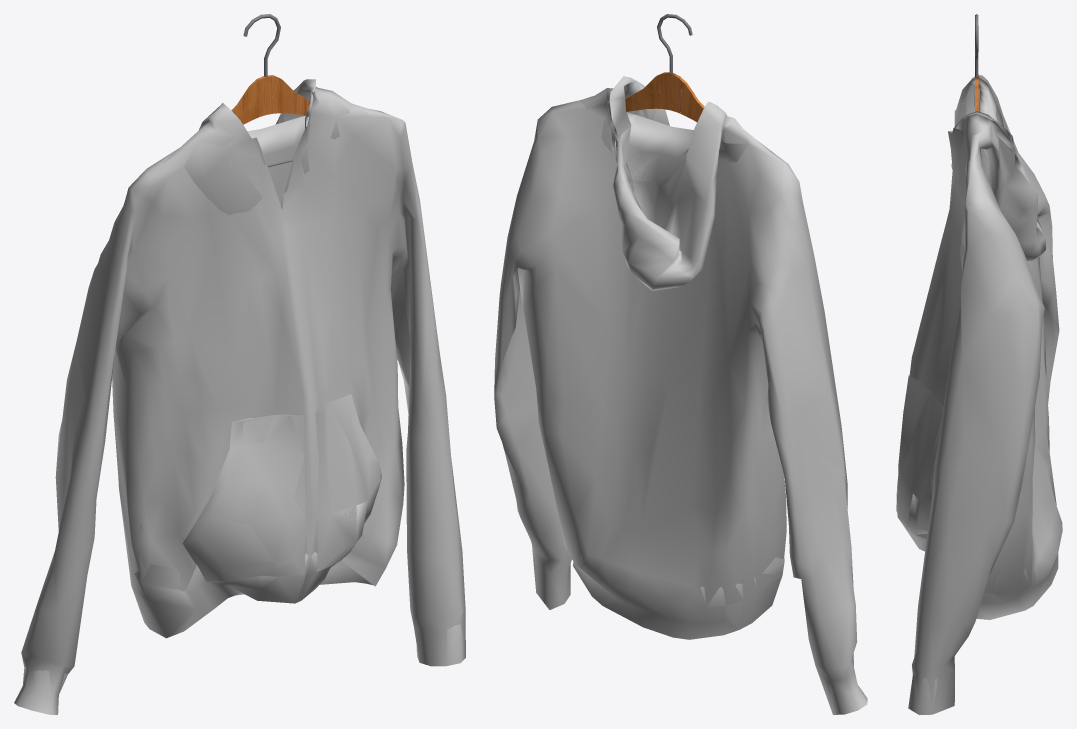
File: hoody.FBX
The picture shows the model from 3 angles, left to right: view 1: azimuth 30°, elevation 25°; view 2: azimuth 150°, elevation 25°; view 3: azimuth 270°, elevation 25°; orthographic projection. The views are drawn at different scales.
Parts seen in each view (by area): view 1: hoody_LOD0, _Hanger-1_LOD0; view 2: hoody_LOD0, _Hanger-1_LOD0; view 3: hoody_LOD0, _Hanger-1_LOD0.
Boxes of the visible parts, x1,y1,x2,y2 form: hoody_LOD0: (14, 79, 465, 714); _Hanger-1_LOD0: (231, 14, 309, 167); hoody_LOD0: (494, 76, 867, 714); _Hanger-1_LOD0: (625, 14, 704, 122); hoody_LOD0: (896, 75, 1062, 714); _Hanger-1_LOD0: (975, 14, 978, 111).
Size of what is drawn, in the model's own units: 50.66 by 19.5 by 80.8.
